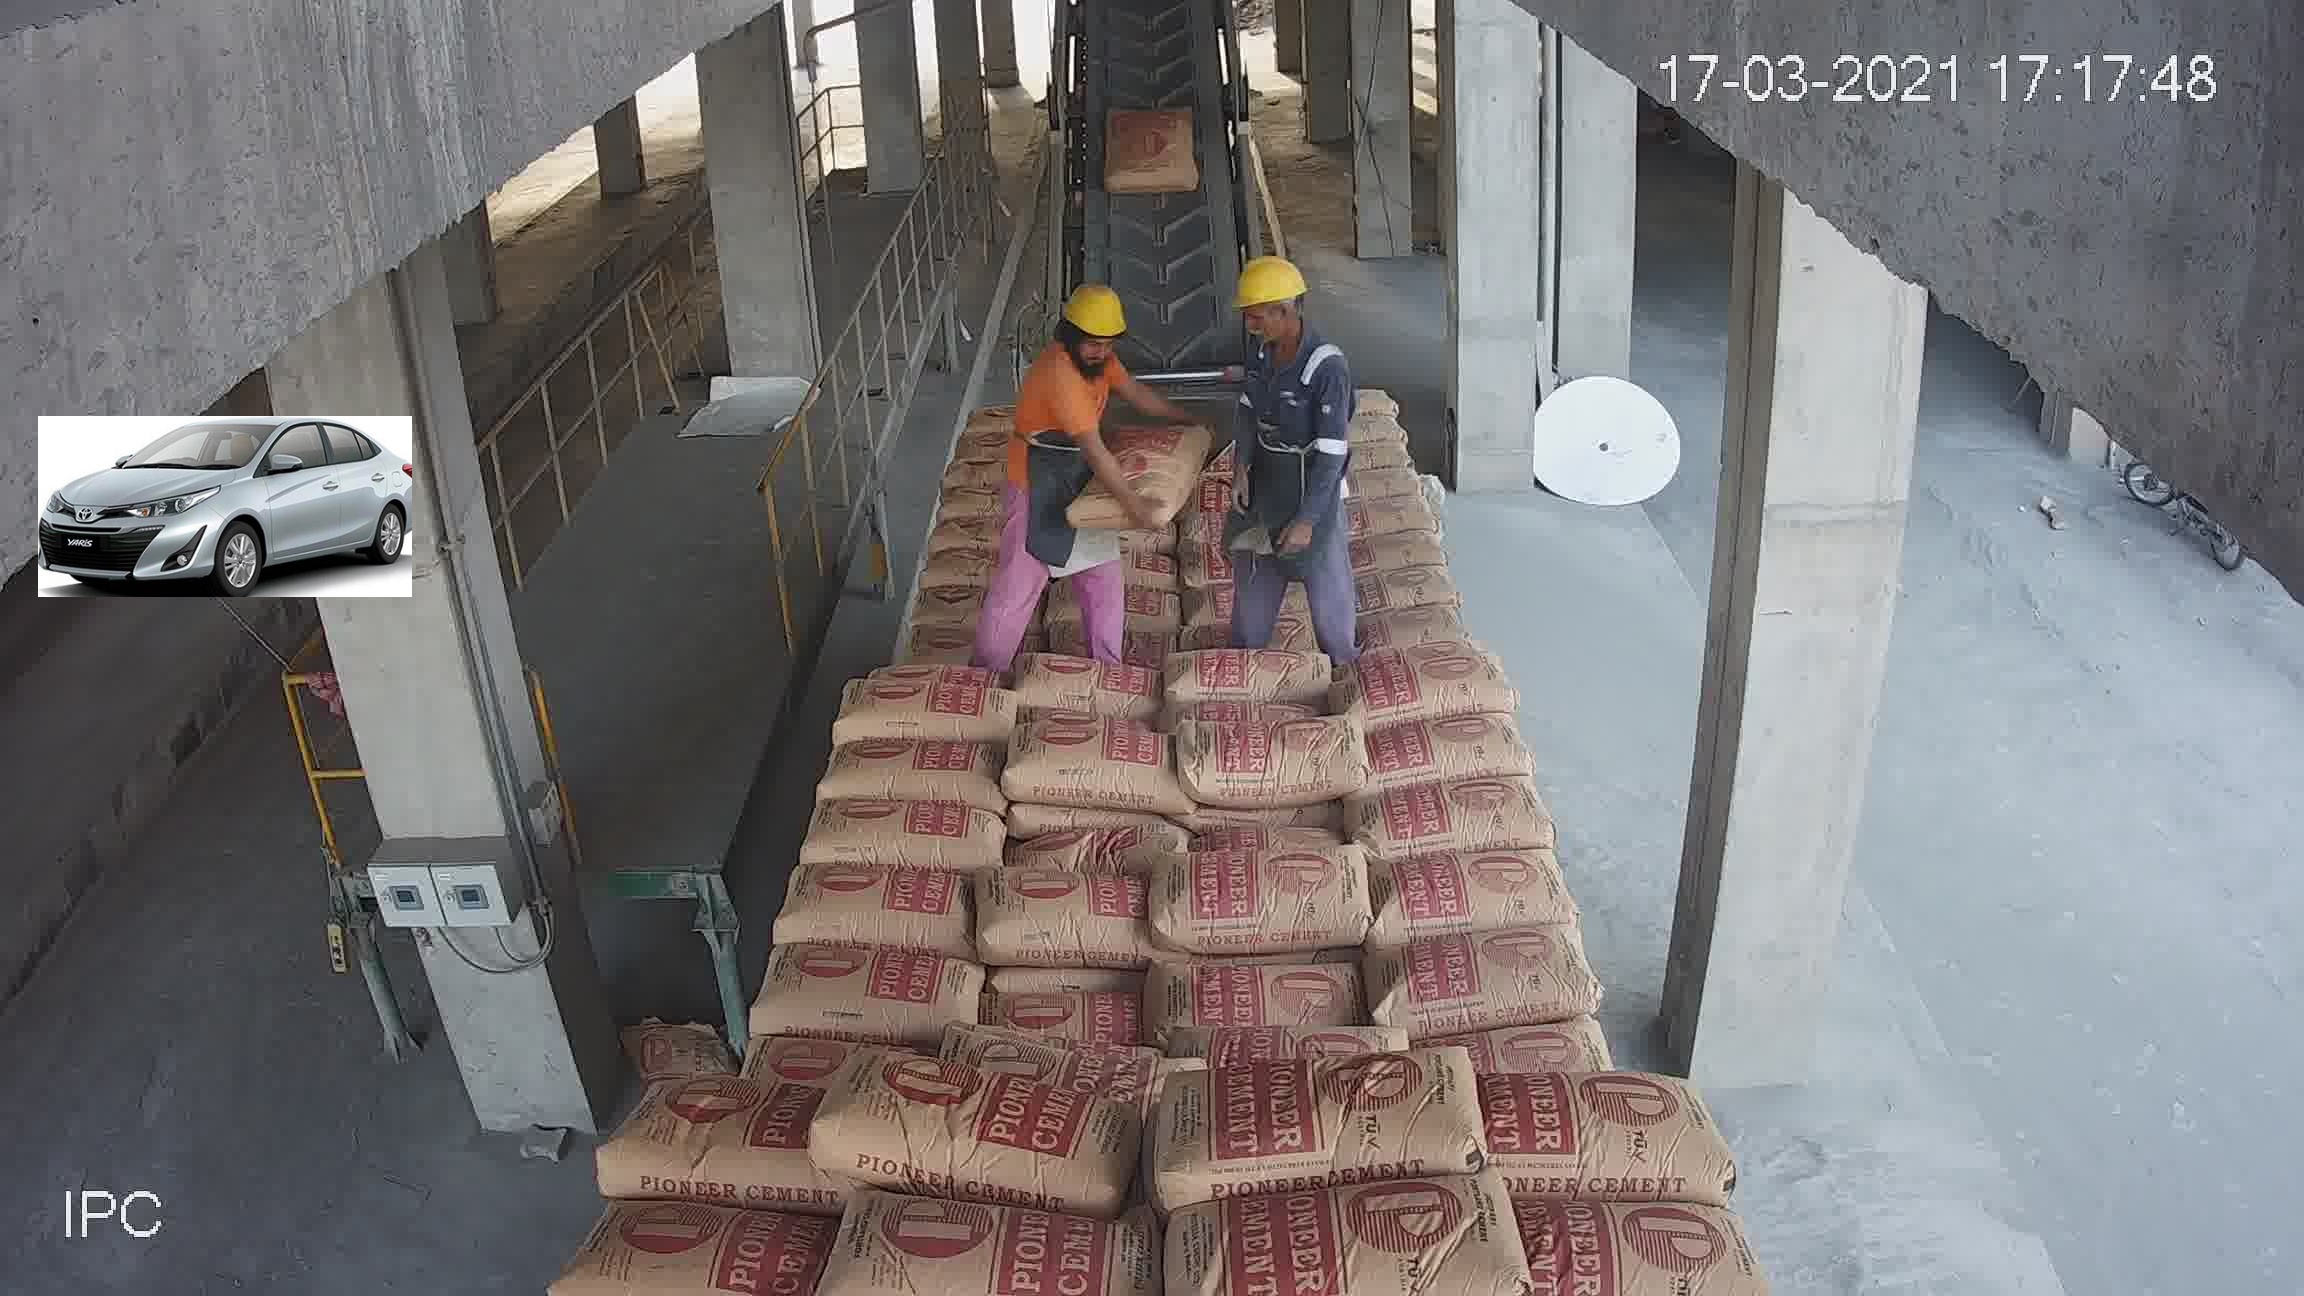bag: (1108, 101, 1193, 199)
bag_h: (1147, 1055, 1481, 1203), (801, 1059, 1109, 1204), (1161, 1179, 1525, 1296), (812, 1190, 1157, 1296), (1499, 1074, 1756, 1203), (590, 1087, 829, 1225), (1503, 1174, 1760, 1288), (552, 1188, 848, 1282), (1367, 921, 1597, 1033), (752, 946, 989, 1044), (775, 851, 980, 956), (1343, 767, 1556, 862), (1158, 862, 1377, 953), (1369, 848, 1576, 943), (967, 872, 1160, 967), (1150, 962, 1367, 1046), (1182, 722, 1377, 809), (1057, 418, 1207, 524), (1002, 722, 1184, 809), (801, 798, 1014, 869), (817, 733, 1014, 809), (975, 1032, 1180, 1105), (1002, 817, 1185, 889), (1355, 711, 1525, 788), (1329, 646, 1514, 715), (836, 677, 1016, 747), (991, 973, 1152, 1046), (1163, 647, 1337, 709), (1434, 1022, 1612, 1081), (1002, 657, 1163, 718), (1348, 597, 1476, 654), (1355, 557, 1464, 619), (885, 612, 991, 676), (896, 570, 1002, 631), (1343, 525, 1443, 574), (1343, 486, 1438, 535)
belt: (1044, 21, 1274, 405)
